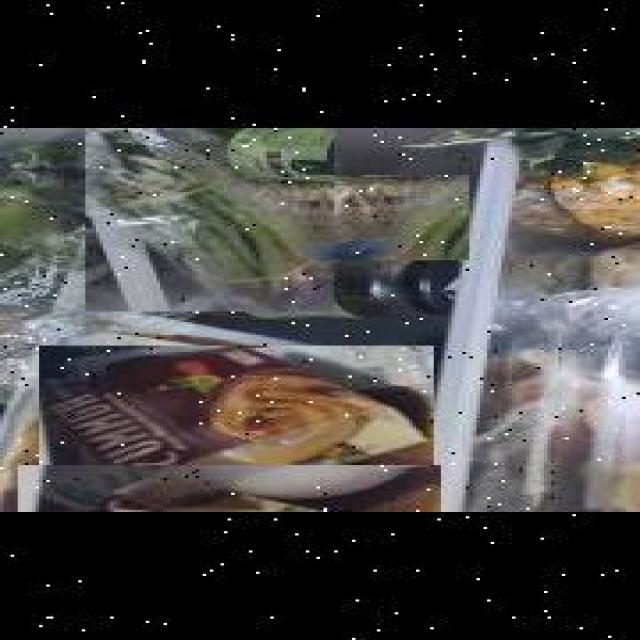asparagus: (82, 128, 330, 311)
bread: (231, 175, 466, 260)
humus: (36, 346, 430, 504)
milk: (15, 465, 438, 512)
pineapple: (487, 128, 640, 239)
salad: (0, 190, 100, 292)
